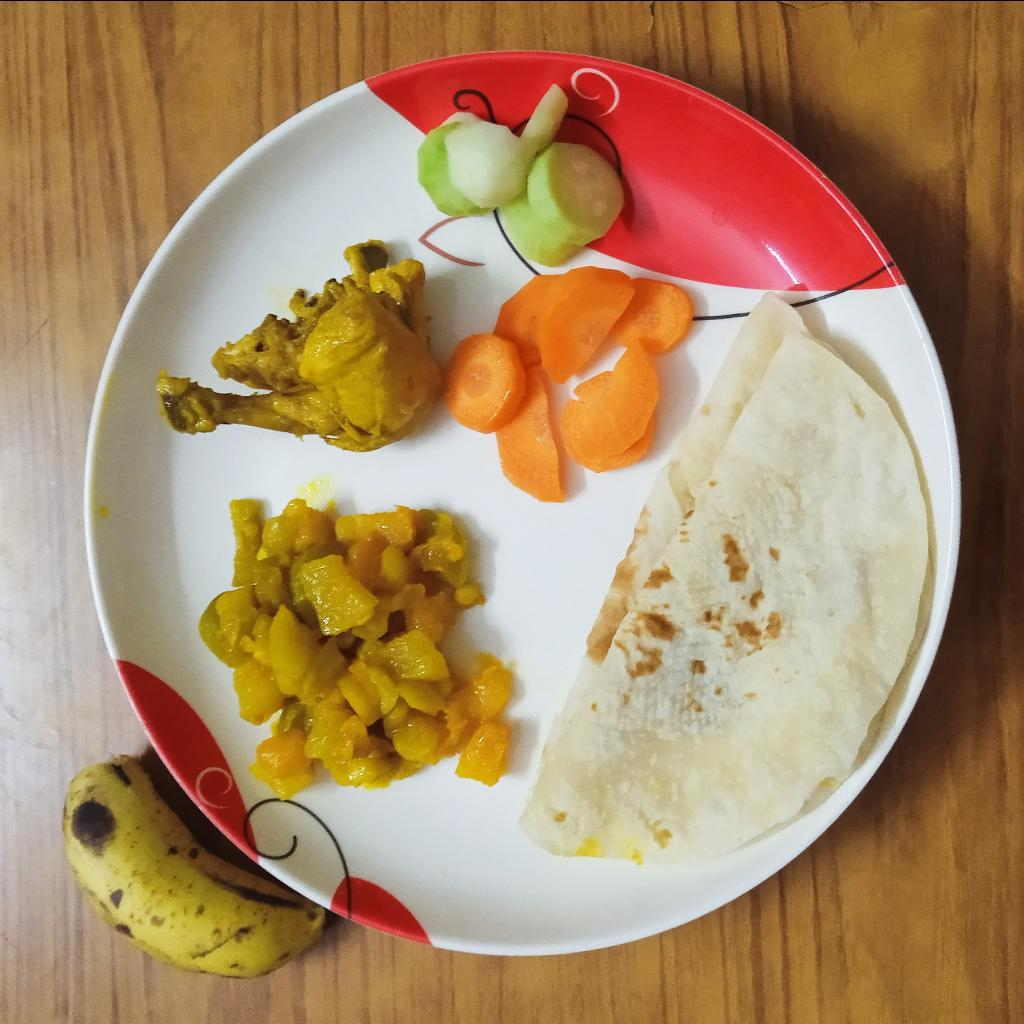banana: (61, 750, 329, 983)
carrot: (440, 269, 698, 502)
chicken: (154, 237, 444, 456)
cucumber: (416, 82, 625, 267)
ruti: (510, 288, 933, 867)
vegetable: (194, 494, 521, 798)
